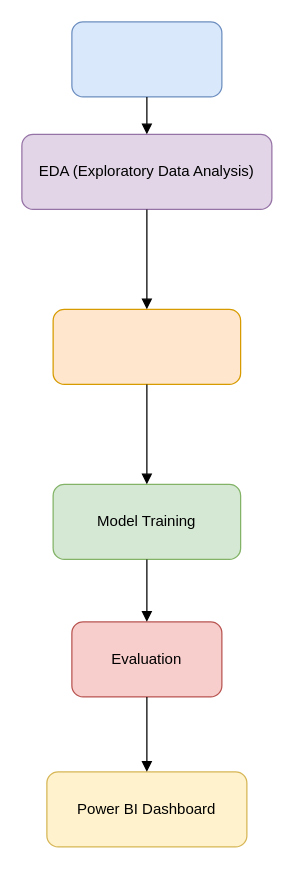
Image size: 294x869. Some labels were removed from this diagram. The centre of each missing label's shape, as x and y in pixels:
Dataset: point (146, 59)
Feature Selection: point (146, 346)
